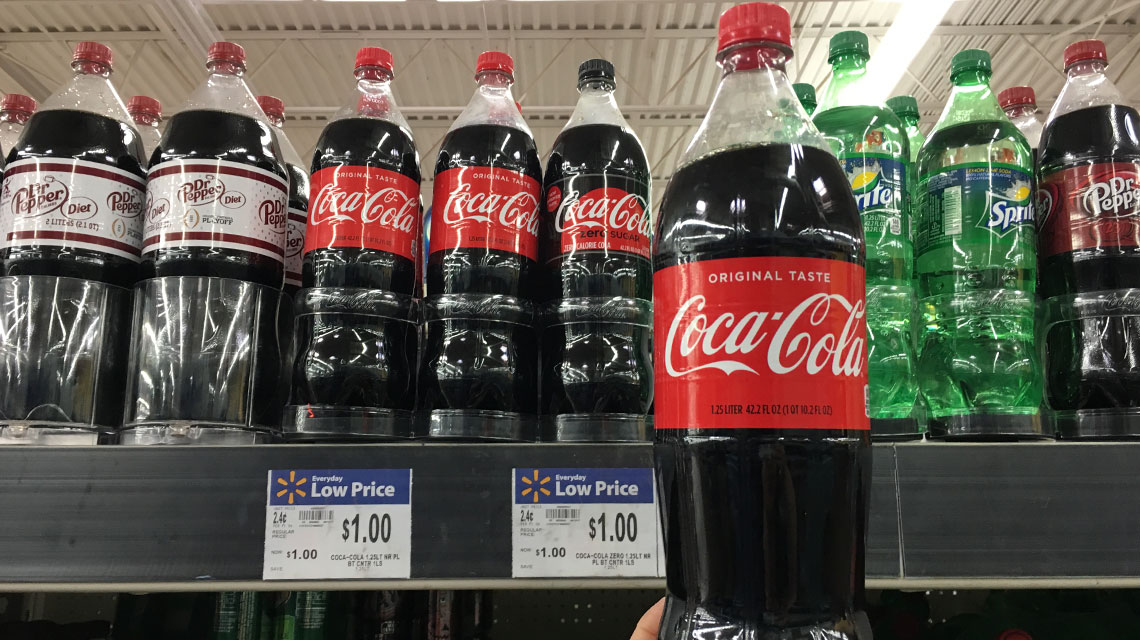coke: (667, 17, 873, 640), (433, 55, 534, 419), (551, 68, 652, 403), (319, 46, 421, 377)
